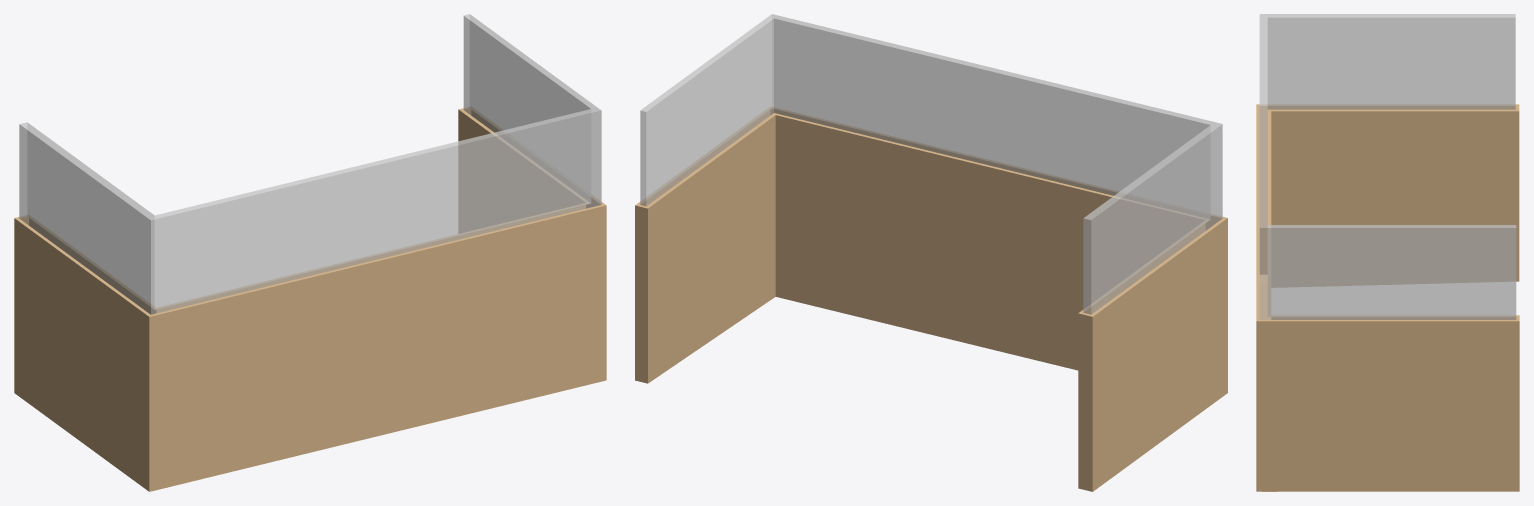
The model's file is Cubicle_1.fbx.
The picture shows the model from 3 angles, left to right: view 1: azimuth 30°, elevation 25°; view 2: azimuth 150°, elevation 25°; view 3: azimuth 270°, elevation 25°; orthographic projection. The views are drawn at different scales.
Parts seen in each view (by area): view 1: cubicle1_down; view 2: cubicle1_down; view 3: cubicle1_down.
Boxes of the visible parts, x1,y1,x2,y2 form: cubicle1_down: [14, 14, 606, 491]; cubicle1_down: [635, 14, 1227, 491]; cubicle1_down: [1256, 14, 1519, 491].
Size of the model in its own units: 357 by 206 by 183.
